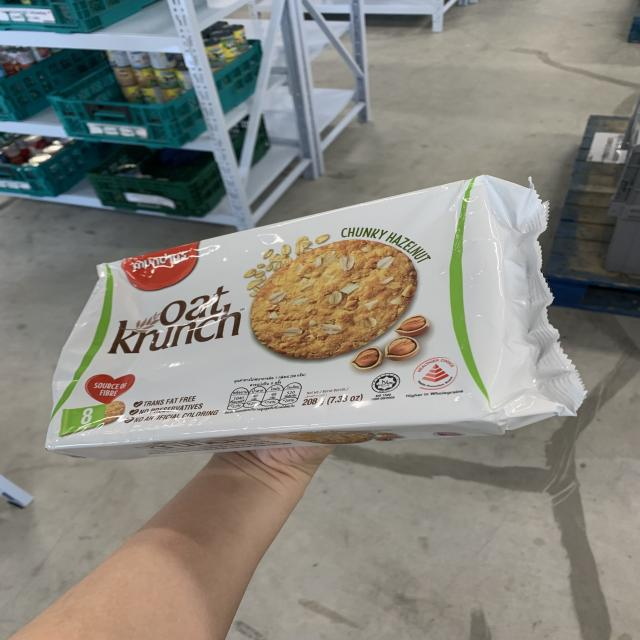object_name: (77, 228, 531, 432)
